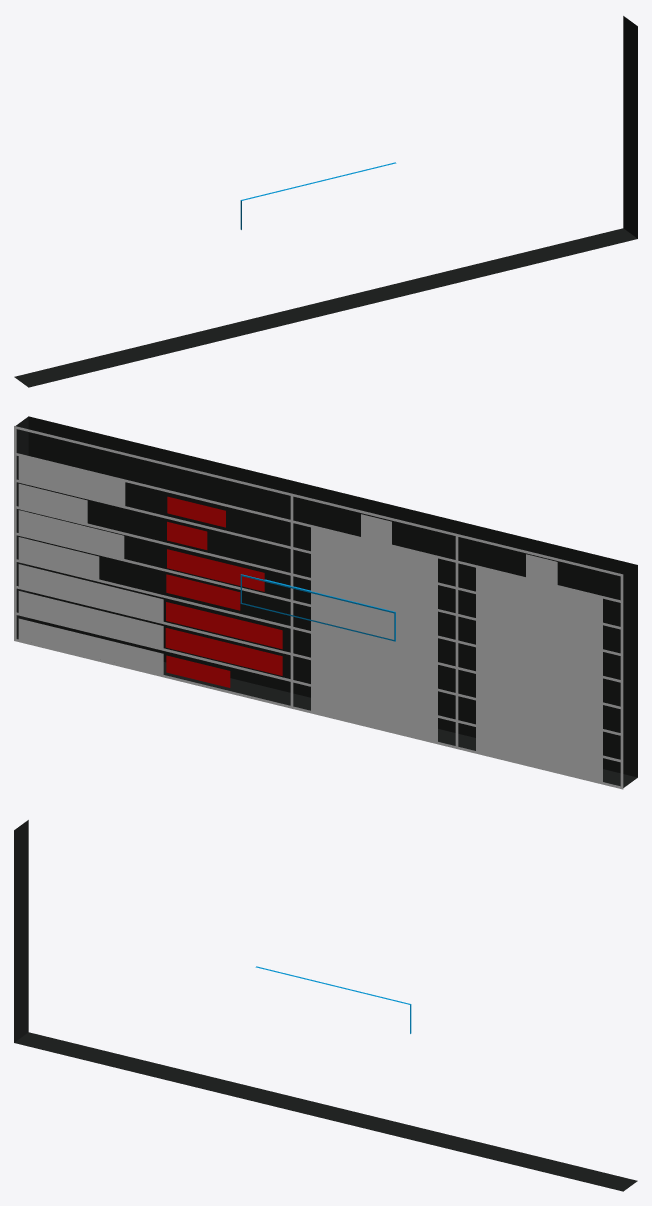
File: PAD_LIST.glb
The picture shows the model from 3 angles, top to bottom: view 1: azimuth 30°, elevation 25°; view 2: azimuth 150°, elevation 25°; view 3: azimuth 330°, elevation 25°; orthographic projection.
Parts seen in each view (by area): view 1: obj8; view 2: obj8, Cur1; view 3: obj8.
Part boxes in pixels (x1,y1,x2,y2): obj8: [14, 16, 637, 387]; obj8: [14, 416, 637, 789]; Cur1: [240, 574, 395, 641]; obj8: [14, 820, 637, 1191].
Bounding box in the file's own units: 24 × 8.1 × 1.04.
19 materials, 5 textured.
